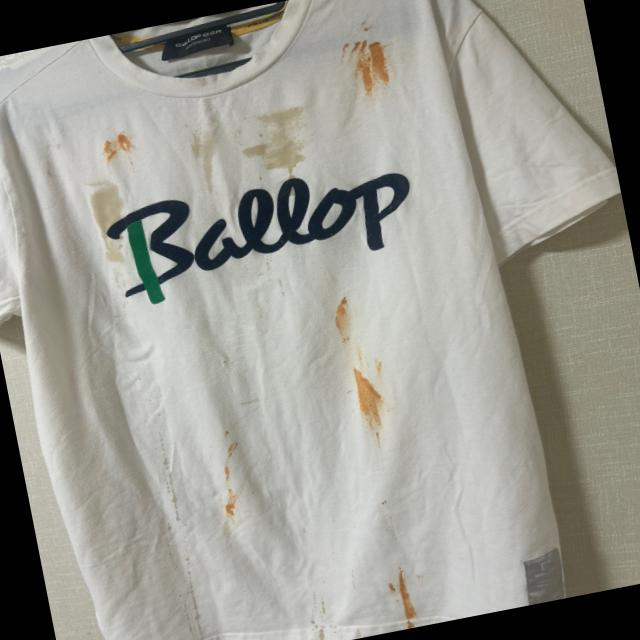stain: (240, 109, 314, 185), (80, 176, 134, 268), (153, 432, 189, 530), (343, 361, 392, 431), (178, 549, 215, 640), (182, 131, 225, 195), (387, 572, 425, 630), (328, 290, 358, 352), (368, 37, 398, 93), (352, 46, 382, 100), (213, 442, 245, 484), (303, 596, 333, 640), (222, 484, 250, 520), (342, 34, 374, 58), (100, 138, 124, 166), (116, 130, 140, 156), (370, 358, 392, 384), (263, 251, 280, 276), (351, 624, 371, 640), (374, 428, 386, 452), (361, 22, 382, 35), (354, 347, 366, 369), (357, 16, 370, 29), (222, 426, 235, 438), (398, 566, 407, 573)
